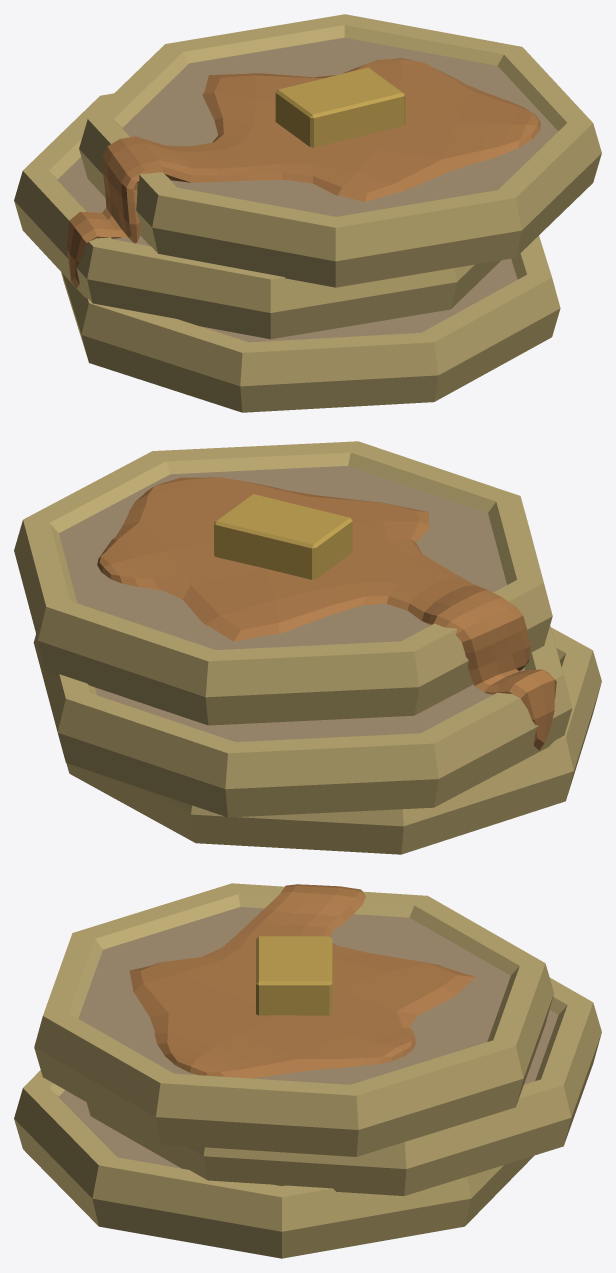
Rendered from pancake.glb.
3 renders of one model, top to bottom at view 1: azimuth 30°, elevation 25°; view 2: azimuth 150°, elevation 25°; view 3: azimuth 270°, elevation 25°, orthographic. The views are drawn at different scales.
Visible parts, largest first — view 1: Pancakes_Stack; view 2: Pancakes_Stack; view 3: Pancakes_Stack.
Part boxes in pixels (x1,y1,x2,y2): Pancakes_Stack: (14, 14, 601, 412); Pancakes_Stack: (14, 441, 601, 854); Pancakes_Stack: (14, 883, 601, 1258).
Size of the model in its own units: 1.58 by 0.6374 by 1.62.
